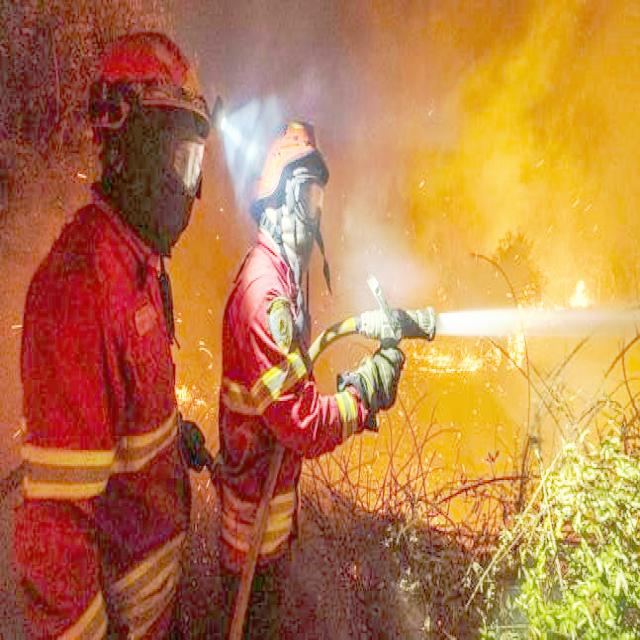api: (411, 334, 506, 379), (507, 293, 535, 370), (172, 372, 210, 415), (567, 269, 593, 312)
